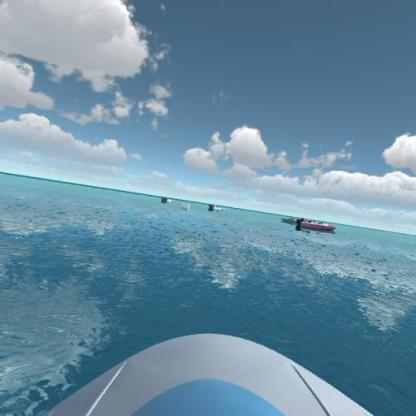usv1: (204, 198, 226, 214), (158, 192, 175, 206)
usv3: (294, 214, 337, 236)
